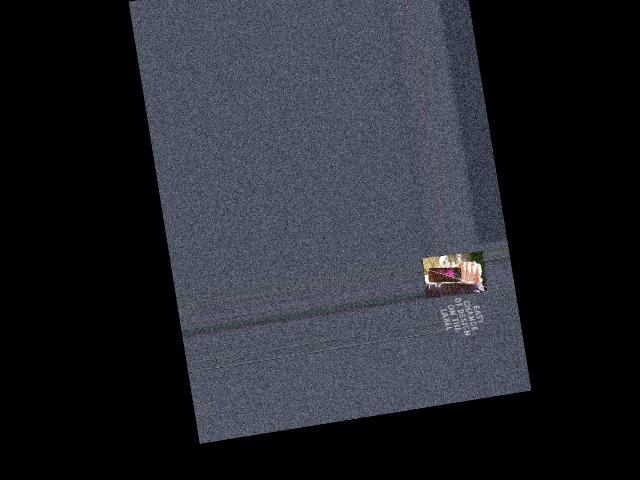beer: (426, 260, 483, 286)
